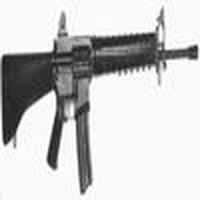gun: (1, 30, 200, 146)
